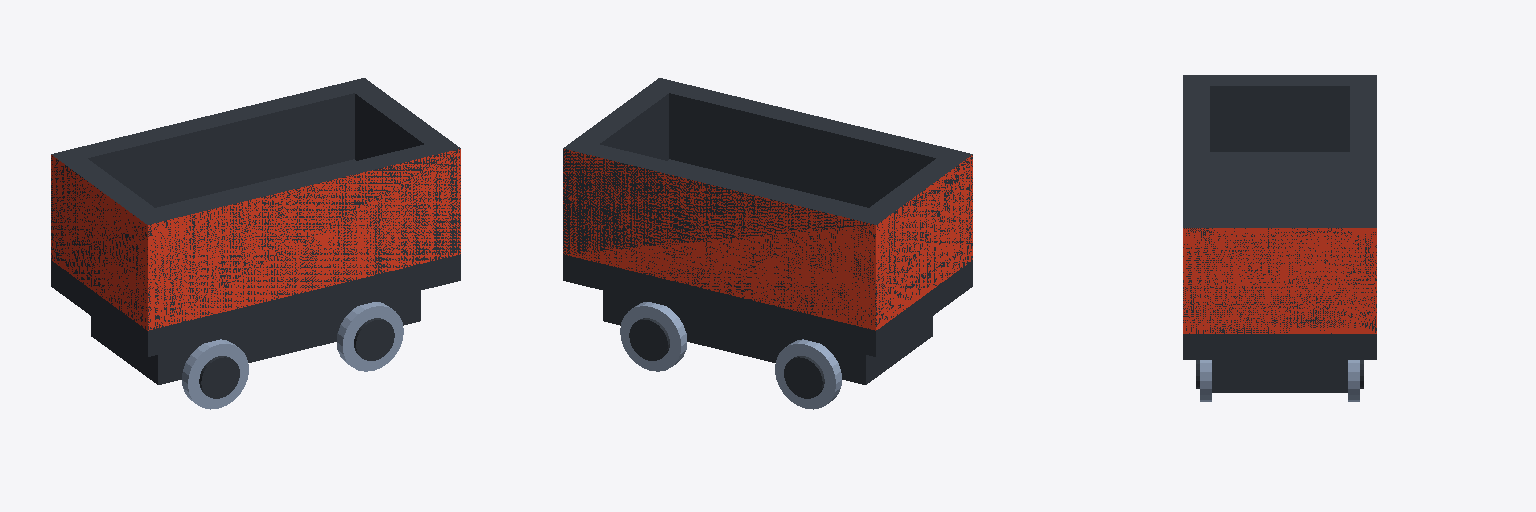
The picture shows the model from 3 angles: view 1: azimuth 30°, elevation 25°; view 2: azimuth 150°, elevation 25°; view 3: azimuth 270°, elevation 25°; orthographic projection.
Visible parts, largest first — view 1: trainTender, wheel; view 2: trainTender, wheel; view 3: trainTender, wheel.
Part boxes in pixels (bbox=[...]): trainTender: bbox=[51, 78, 460, 384]; wheel: bbox=[182, 302, 403, 409]; trainTender: bbox=[563, 78, 972, 384]; wheel: bbox=[620, 302, 841, 409]; trainTender: bbox=[1183, 75, 1376, 392]; wheel: bbox=[1196, 360, 1363, 401].
Size of the model in its own units: 1 by 0.6377 by 0.5341.